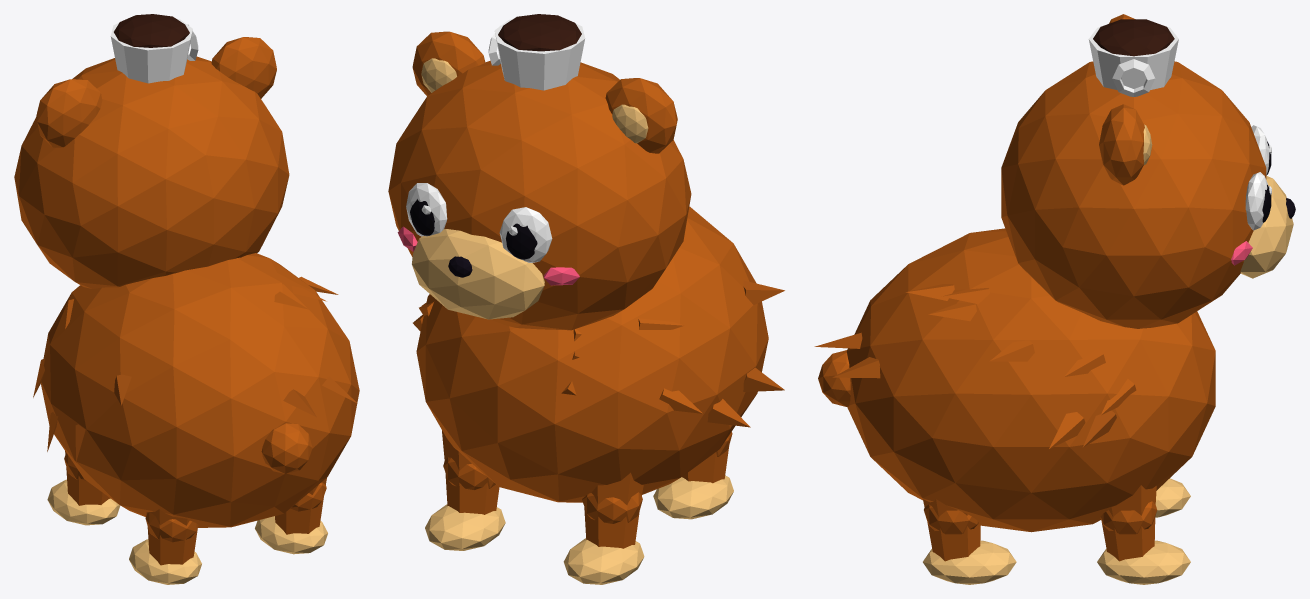
File: caramel_bear.obj
3 renders of one model, left to right at view 1: azimuth 30°, elevation 25°; view 2: azimuth 150°, elevation 25°; view 3: azimuth 270°, elevation 25°, orthographic. The views are drawn at different scales.
Visible parts, largest first — view 1: Body_1_m1, Head_2_m4, Head_2_m7, Leg3Lo_8_m18, Head_2_m23, Leg3Lo_8_m19, Leg1Lo_4_m13, Leg4Lo_10_m22, Leg4Lo_10_m21, Body_1_m3, Leg1Lo_4_m12; view 2: Body_1_m1, Head_2_m4, Head_2_m5, Head_2_m7, Leg2Lo_6_m16, Leg1Lo_4_m13, Leg1Lo_4_m12, Leg3Lo_8_m19, Head_2_m23, Leg2Lo_6_m15, Head_2_m8, Body_1_m3 (+3 smaller); view 3: Body_1_m1, Head_2_m4, Head_2_m7, Head_2_m5, Leg2Lo_6_m16, Leg4Lo_10_m22, Leg2Lo_6_m15, Head_2_m23, Leg4Lo_10_m21, Body_1_m3, Leg1Lo_4_m13, Leg2Up_5_m14.
Boxes of the visible parts, x1=… form: Body_1_m1: x1=33, y1=253, x2=359, y2=527; Head_2_m4: x1=14, y1=37, x2=289, y2=288; Head_2_m7: x1=33, y1=18, x2=198, y2=122; Leg3Lo_8_m18: x1=145, y1=512, x2=198, y2=565; Head_2_m23: x1=114, y1=14, x2=189, y2=47; Leg3Lo_8_m19: x1=129, y1=539, x2=201, y2=584; Leg1Lo_4_m13: x1=47, y1=479, x2=120, y2=525; Leg4Lo_10_m22: x1=255, y1=516, x2=327, y2=554; Leg4Lo_10_m21: x1=275, y1=482, x2=326, y2=534; Body_1_m3: x1=75, y1=374, x2=357, y2=462; Leg1Lo_4_m12: x1=64, y1=453, x2=110, y2=505; Body_1_m1: x1=416, y1=206, x2=768, y2=502; Head_2_m4: x1=388, y1=31, x2=691, y2=330; Head_2_m5: x1=412, y1=58, x2=648, y2=319; Head_2_m7: x1=406, y1=19, x2=585, y2=262; Leg2Lo_6_m16: x1=425, y1=504, x2=505, y2=550; Leg1Lo_4_m13: x1=563, y1=538, x2=644, y2=584; Leg1Lo_4_m12: x1=582, y1=492, x2=642, y2=548; Leg3Lo_8_m19: x1=653, y1=475, x2=733, y2=519; Head_2_m23: x1=498, y1=14, x2=581, y2=51; Leg2Lo_6_m15: x1=443, y1=457, x2=499, y2=514; Head_2_m8: x1=410, y1=199, x2=537, y2=259; Body_1_m3: x1=413, y1=280, x2=784, y2=391; Body_1_m1: x1=818, y1=228, x2=1215, y2=532; Head_2_m4: x1=1001, y1=14, x2=1266, y2=328; Head_2_m7: x1=1088, y1=27, x2=1269, y2=230; Head_2_m5: x1=1143, y1=124, x2=1293, y2=278; Leg2Lo_6_m16: x1=1097, y1=540, x2=1190, y2=584; Leg4Lo_10_m22: x1=923, y1=540, x2=1016, y2=584; Leg2Lo_6_m15: x1=1100, y1=501, x2=1157, y2=561; Head_2_m23: x1=1093, y1=19, x2=1174, y2=56; Leg4Lo_10_m21: x1=924, y1=504, x2=980, y2=561; Body_1_m3: x1=814, y1=332, x2=1116, y2=447; Leg1Lo_4_m13: x1=1155, y1=478, x2=1190, y2=517; Leg2Up_5_m14: x1=1109, y1=485, x2=1156, y2=516.
Size of the model in its own units: 1.79 by 2.79 by 2.35.
